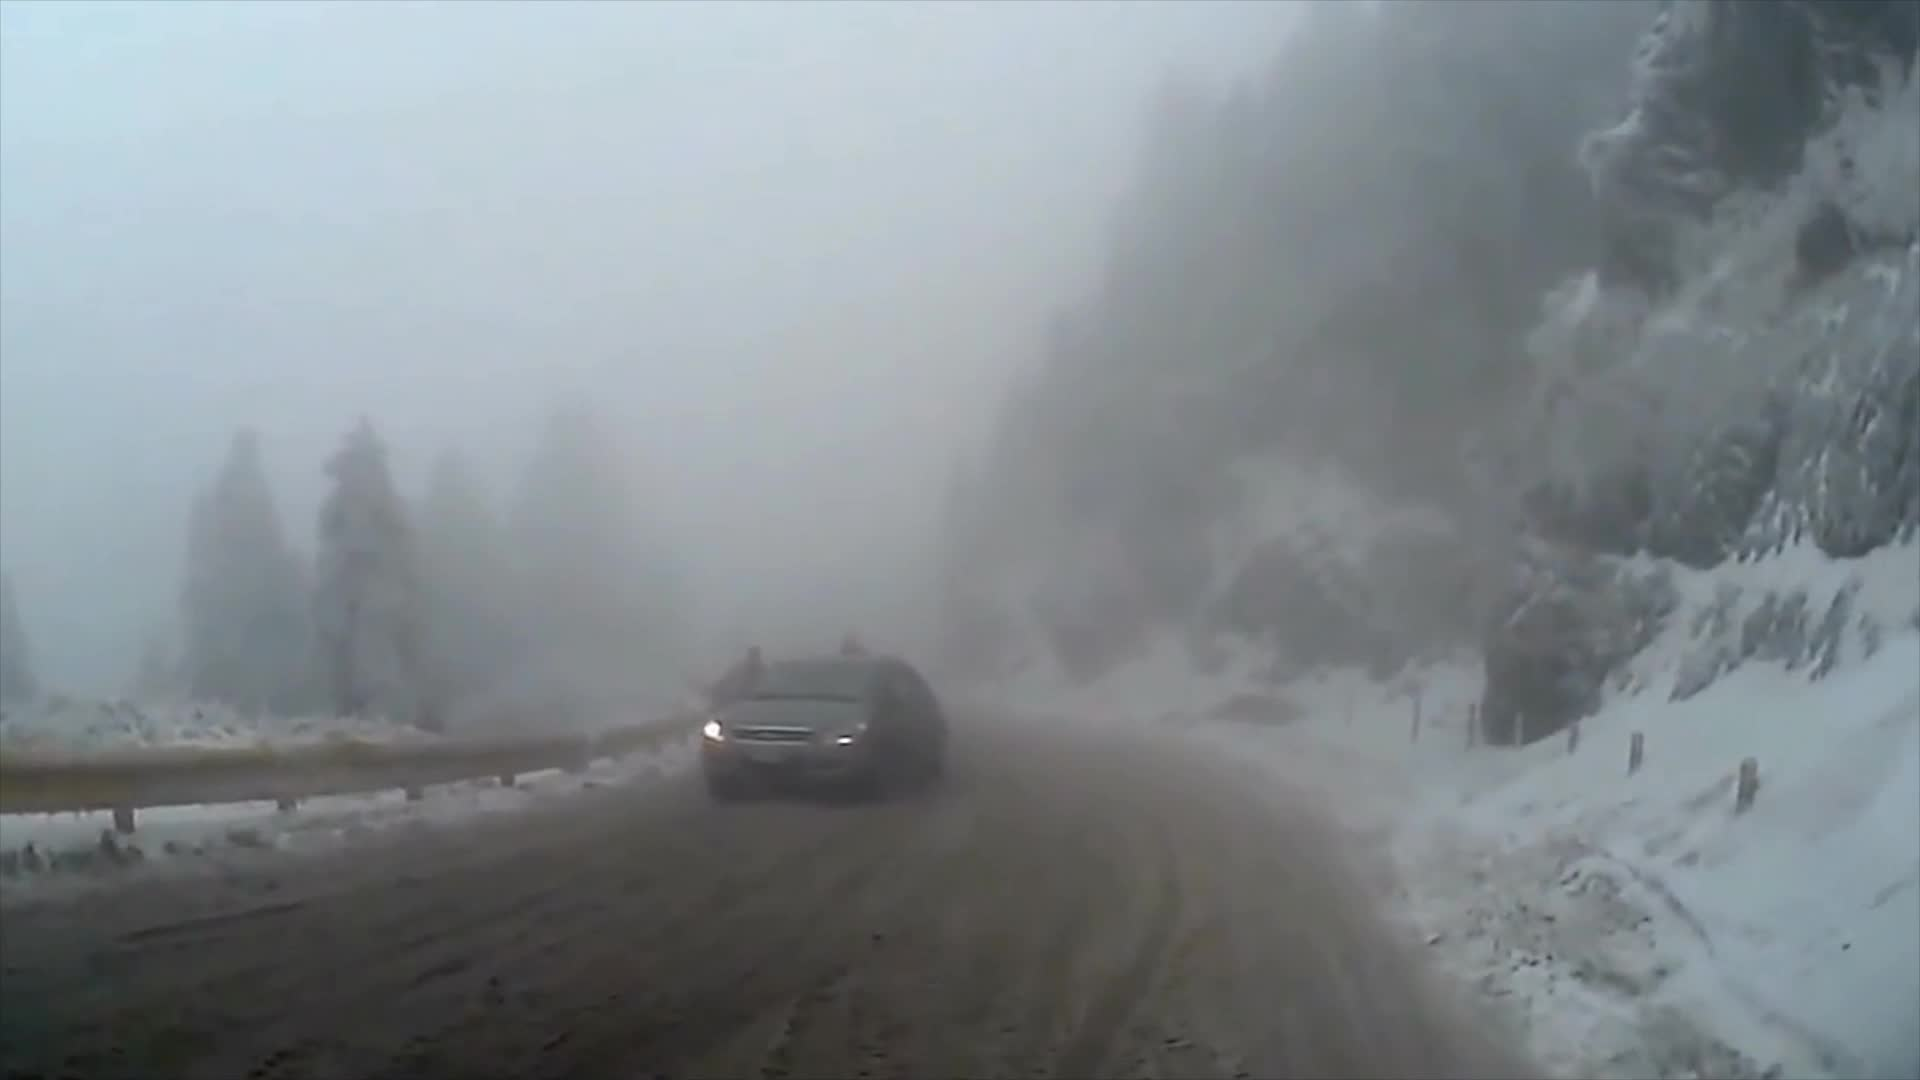vehicle: (699, 657, 947, 804)
